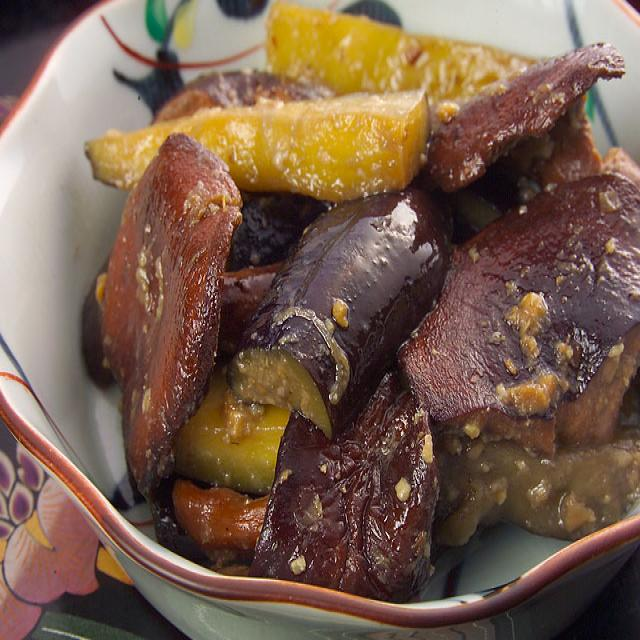鸡蛋料理: (64, 0, 640, 609)
